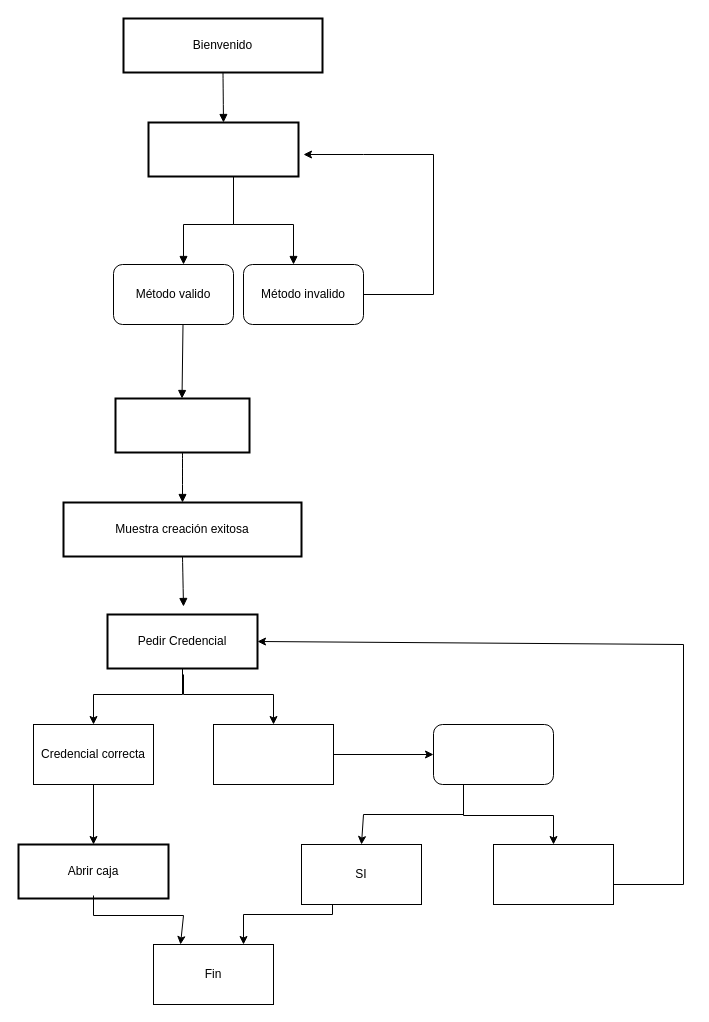
Image size: 709x1022. Some labels were removed from this diagram. The shapes that lost their labels are listed below. From the top down, each one's centre as x and y in pixels, then its label:
At pixel 223 149: "Pedir Método de seguridad".
At pixel 182 425: "Crea Caja".
At pixel 273 754: "Credencial Incorrecta".
At pixel 493 754: "¿3 Intentos Fallidos?".
At pixel 553 874: "No".
